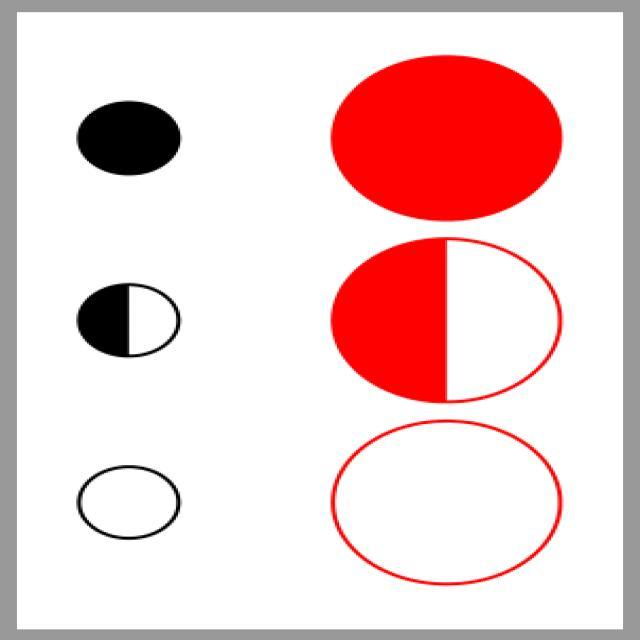Circle: (326, 235, 570, 406), (329, 413, 566, 588), (331, 55, 563, 221), (70, 461, 186, 544), (72, 280, 186, 362), (77, 101, 179, 174)
